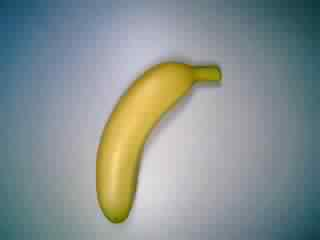banana: (93, 54, 226, 225)
